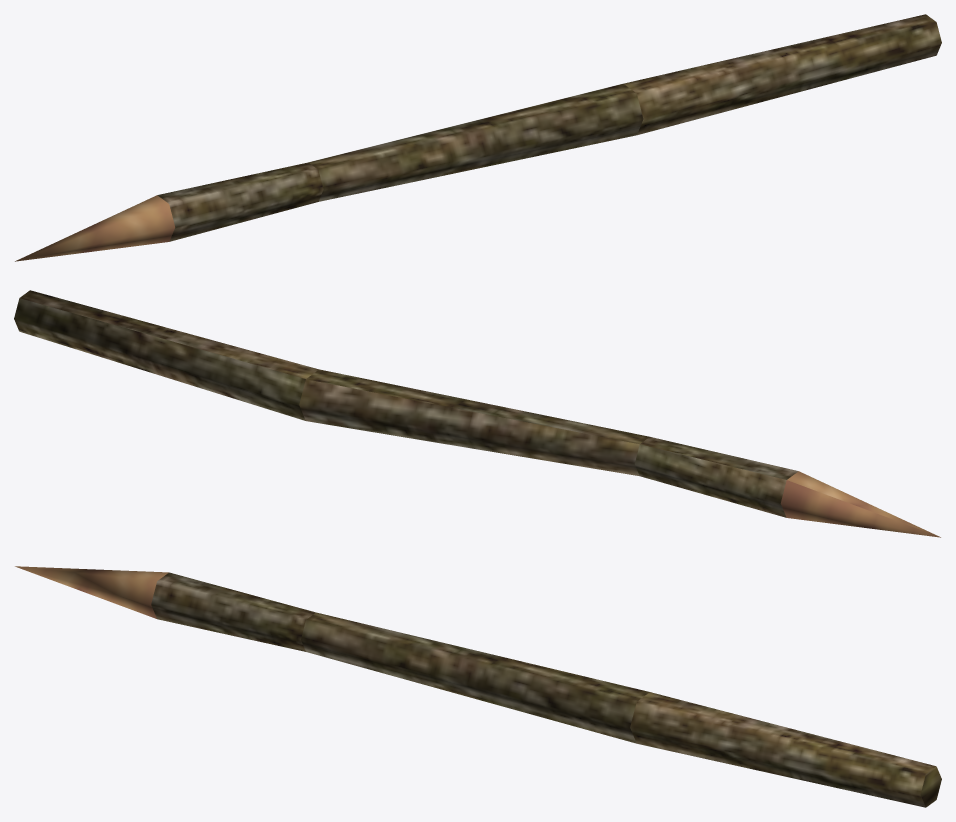
Rendered from sharpenedstick.fbx.
3 renders of one model, top to bottom at view 1: azimuth 30°, elevation 25°; view 2: azimuth 150°, elevation 25°; view 3: azimuth 330°, elevation 25°, orthographic.
Parts seen in each view (by area): view 1: Cylinder; view 2: Cylinder; view 3: Cylinder.
Part boxes in pixels (bbox=[...]): Cylinder: bbox=[15, 14, 941, 261]; Cylinder: bbox=[14, 290, 940, 537]; Cylinder: bbox=[15, 566, 941, 807].
Bounding box in the file's own units: 2.19 × 0.1171 × 0.1328.
